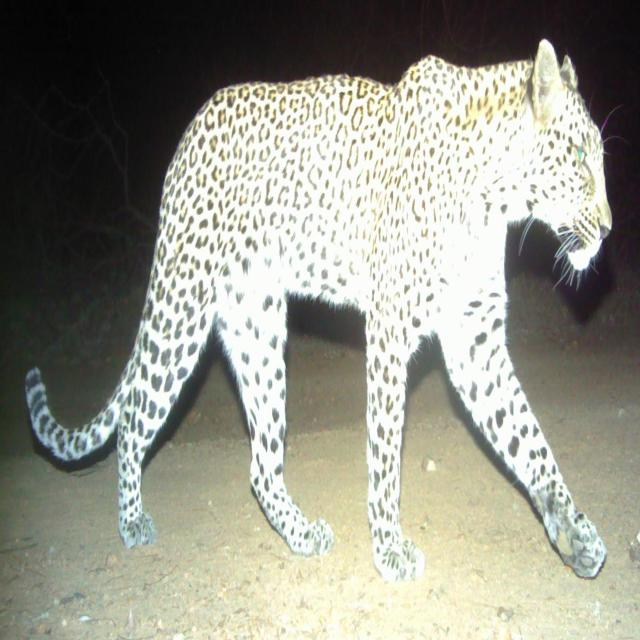Leopard: (29, 70, 611, 607)
